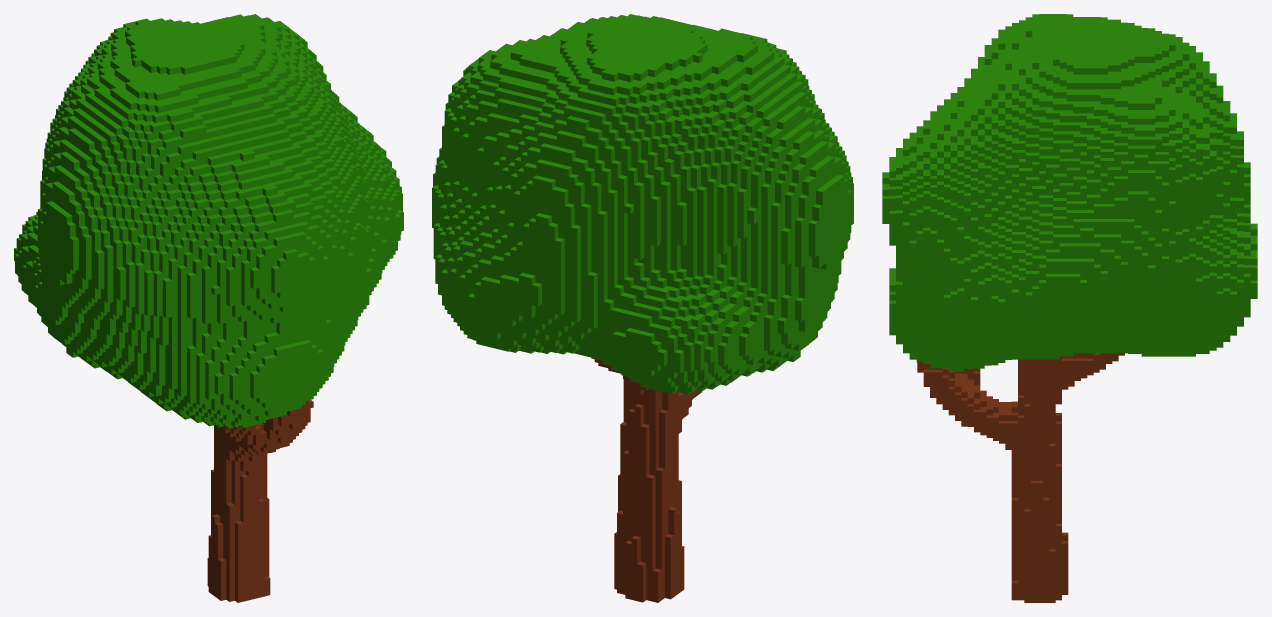
Rendered from Tree1.fbx.
The picture shows the model from 3 angles, left to right: view 1: azimuth 30°, elevation 25°; view 2: azimuth 150°, elevation 25°; view 3: azimuth 270°, elevation 25°; orthographic projection. The views are drawn at different scales.
Visible parts, largest first — view 1: Cube.034; view 2: Cube.034; view 3: Cube.034.
Boxes of the visible parts, x1,y1,x2,y2 form: Cube.034: [14, 14, 403, 602]; Cube.034: [432, 14, 853, 602]; Cube.034: [882, 14, 1257, 602].
Bounding box in the file's own units: 246 × 372 × 237.
